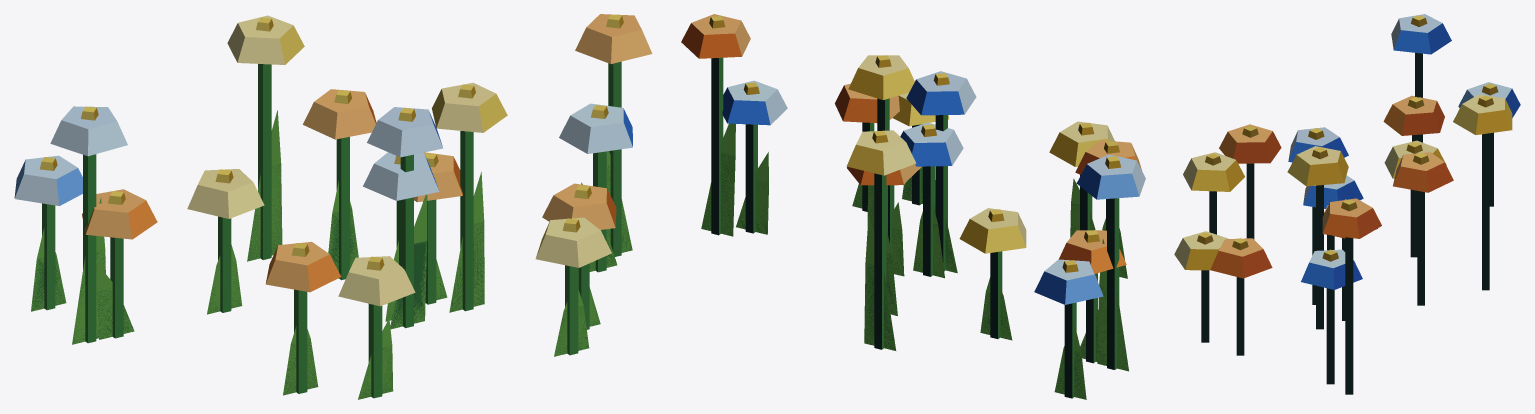
Rendered from flower_patch_c.glb.
3 views of the same model, side by side, from view 1: azimuth 30°, elevation 25°; view 2: azimuth 150°, elevation 25°; view 3: azimuth 270°, elevation 25° (orthographic). The views are drawn at different scales.
Visible parts, largest first — view 1: flower_patch_c; view 2: flower_patch_c; view 3: flower_patch_c.
Boxes of the visible parts, x1,y1,x2,y2 form: flower_patch_c: (14, 14, 652, 399); flower_patch_c: (681, 14, 1145, 399); flower_patch_c: (1174, 14, 1520, 394).
Bounding box in the file's own units: 0.7755 × 0.3199 × 0.5258.
